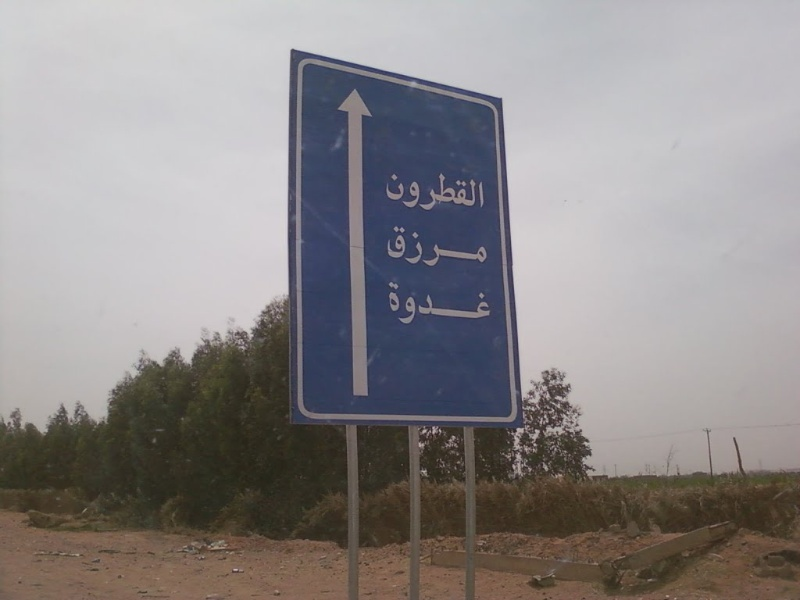text: (401, 165, 416, 213), (417, 165, 432, 213), (433, 165, 448, 213), (449, 165, 464, 213), (465, 165, 480, 213), (385, 280, 400, 327), (401, 280, 416, 327), (417, 280, 432, 327), (433, 280, 448, 327), (449, 280, 464, 327), (465, 280, 480, 327), (401, 223, 416, 268), (417, 223, 432, 268), (433, 223, 448, 268), (449, 223, 464, 268), (465, 223, 480, 268), (386, 223, 400, 268), (388, 165, 400, 213), (481, 280, 492, 327), (481, 223, 489, 268), (481, 165, 486, 213)
